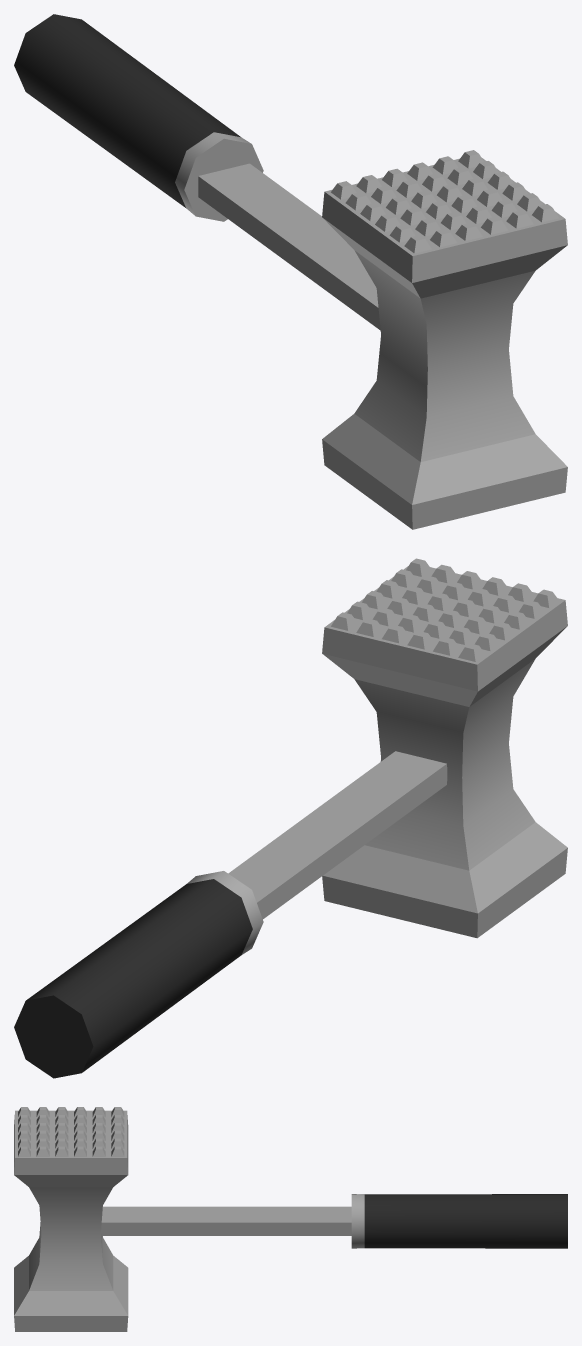
Rendered from MeatTenderiser_01.fbx.
3 views of the same model, one above another, from view 1: azimuth 30°, elevation 25°; view 2: azimuth 150°, elevation 25°; view 3: azimuth 270°, elevation 25° (orthographic). The views are drawn at different scales.
Visible parts, largest first — view 1: MeatTenderiser_01; view 2: MeatTenderiser_01; view 3: MeatTenderiser_01.
Part boxes in pixels (x1,y1,x2,y2): MeatTenderiser_01: [14, 14, 567, 529]; MeatTenderiser_01: [14, 558, 567, 1078]; MeatTenderiser_01: [14, 1107, 567, 1331].
Bounding box in the file's own units: 0.0548 × 0.0966 × 0.2658.
